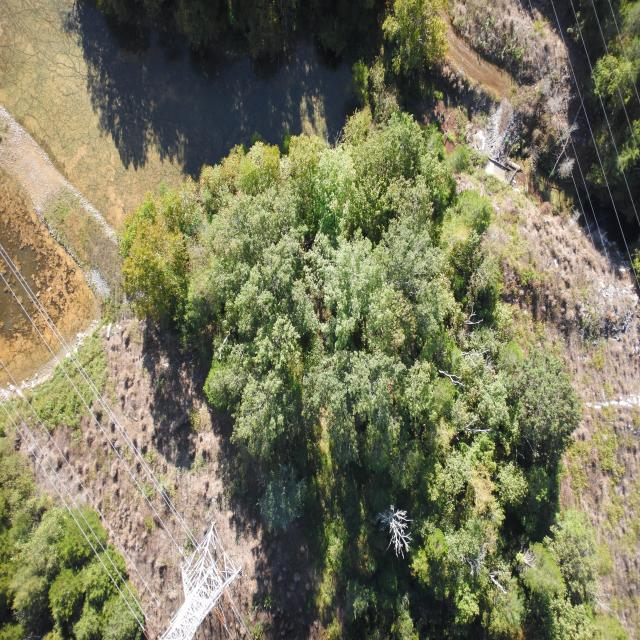Area of Interest: (143, 116, 576, 634), (2, 478, 120, 622)
